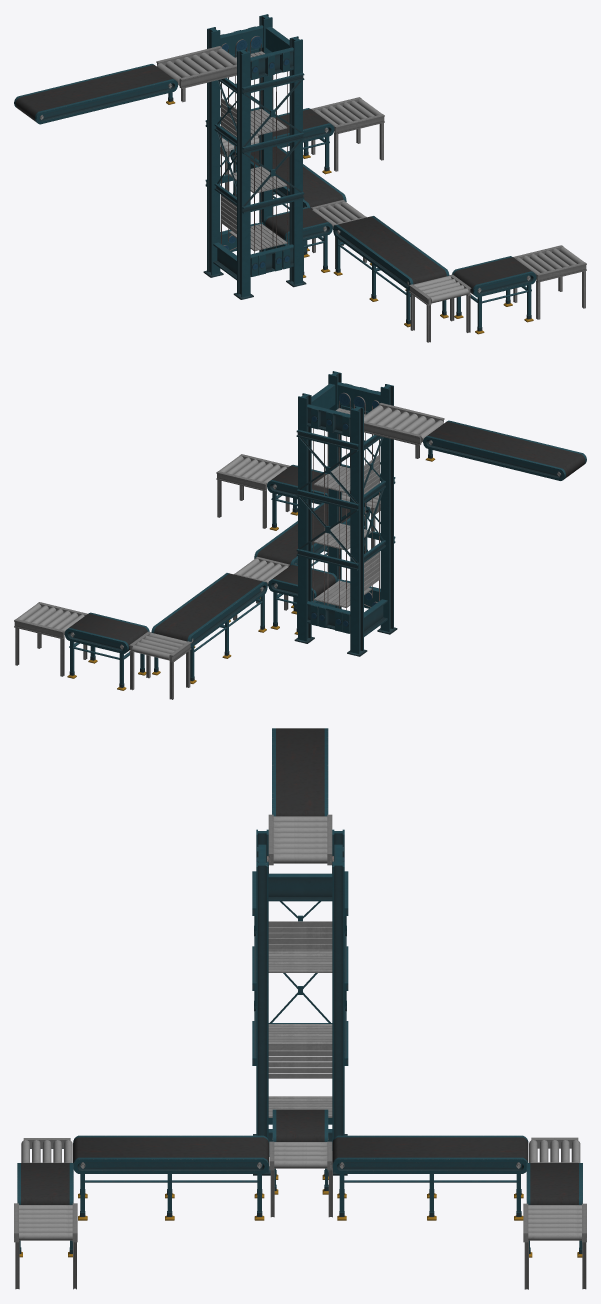
Rendered from ConveyorBelt_01.fbx.
3 views of the same model, one above another, from view 1: azimuth 30°, elevation 25°; view 2: azimuth 150°, elevation 25°; view 3: azimuth 270°, elevation 25° (orthographic). The views are drawn at different scales.
Visible parts, largest first — view 1: WareHouseConveyorBeltSystem_1; view 2: WareHouseConveyorBeltSystem_1; view 3: WareHouseConveyorBeltSystem_1.
Boxes of the visible parts, x1,y1,x2,y2 form: WareHouseConveyorBeltSystem_1: (14, 14, 586, 342); WareHouseConveyorBeltSystem_1: (14, 371, 586, 699); WareHouseConveyorBeltSystem_1: (14, 728, 586, 1289).
Bounding box in the file's own units: 1027 × 532 × 900.
